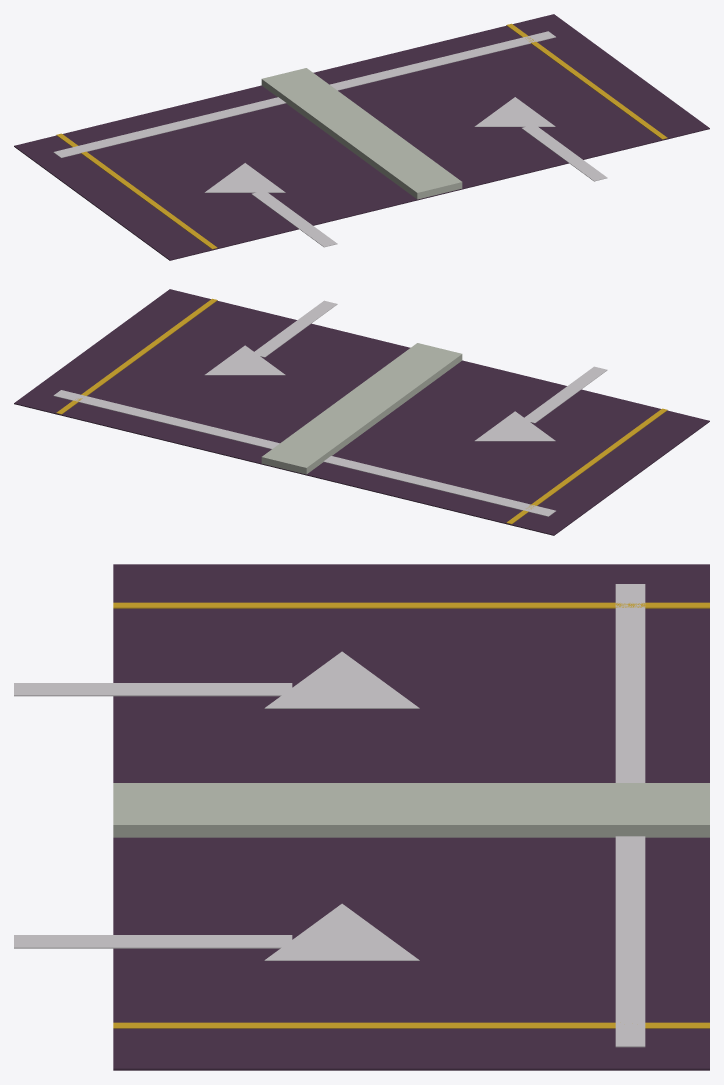
The model's file is gate_lanes.glb.
3 views of the same model, one above another, from view 1: azimuth 30°, elevation 25°; view 2: azimuth 150°, elevation 25°; view 3: azimuth 270°, elevation 25° (orthographic). The views are drawn at different scales.
Visible parts, largest first — view 1: gate_lanes; view 2: gate_lanes; view 3: gate_lanes.
Boxes of the visible parts, x1,y1,x2,y2 form: gate_lanes: (14, 14, 709, 260); gate_lanes: (14, 289, 709, 535); gate_lanes: (14, 564, 709, 1070).
Size of the model in its own units: 12 by 0.16 by 7.
